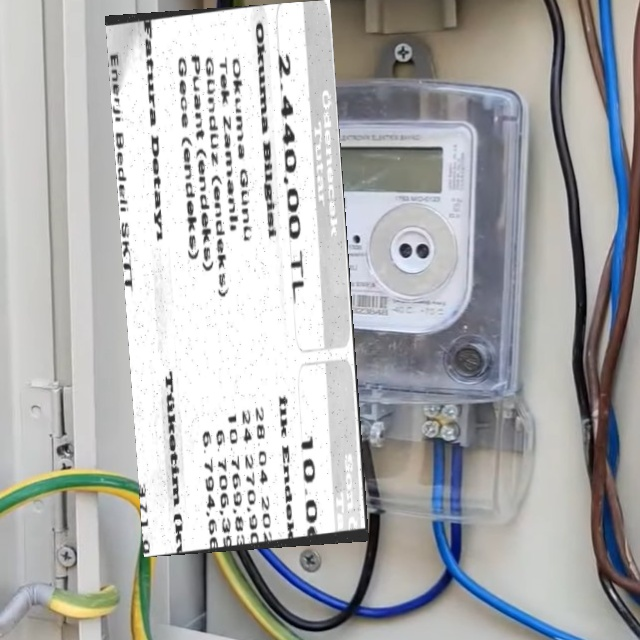electricity-bill: (104, 0, 368, 557)
